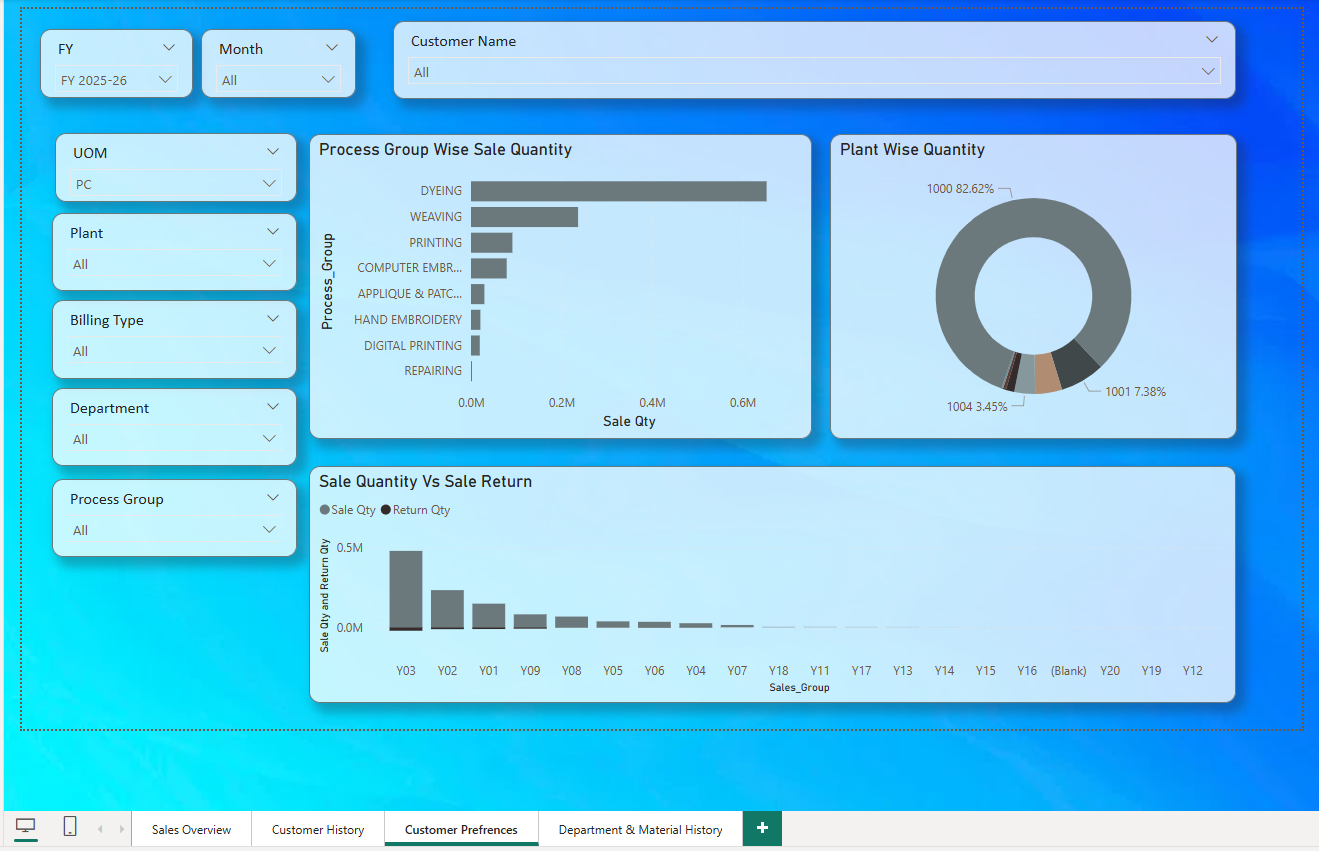

Layout of this report page (visuals, bound fields, positions):
{"tool":"powerbi","page":{"name":"Customer Prefrences","canvas":[1280,720],"ordinal":2},"visuals":[{"type":"slicer","fields":{"Values":["DateTable.FY"]},"box":[18.5,20.4,152.7,69.1],"z":0},{"type":"slicer","title":"Month","fields":{"Values":["DateTable.Month Name"]},"box":[179,20.4,154.7,69.1],"z":1000},{"type":"slicer","fields":{"Values":["Unit Of Measurment.UOM"]},"box":[32.8,123.7,242,69],"z":2000},{"type":"slicer","fields":{"Values":["yngs_sales plant_master.Plant_Code"]},"box":[29.6,203.7,245.3,78.8],"z":3000},{"type":"slicer","fields":{"Values":["Document Type.Document Type"]},"box":[29.6,291.3,245.3,78.8],"z":4000},{"type":"slicer","fields":{"Values":["yngs_sales sales_group_master.Sales_Group"]},"box":[29.7,379,244.8,78.3],"z":5000},{"type":"slicer","fields":{"Values":["yngs_sales process_group_master.Process_Group_Name"]},"box":[29.7,469.9,244.8,78.3],"z":6000},{"type":"slicer","fields":{"Values":["yngs_sales bill_to_party_master.Bill_To_Party_Name"]},"box":[371,12,843,78],"z":7000},{"type":"clusteredBarChart","title":"Process Group Wise Sale Quantity","fields":{"Category":["sales_invoice_data.Process_Group"],"Y":["sales_invoice_data.Sale Qty"]},"box":[286.8,124.5,503.2,305.2],"z":8000},{"type":"lineStackedColumnComboChart","title":"Sale Quantity Vs Sale Return","fields":{"Category":["yngs_sales sales_group_master.Sales_Group"],"Y":["sales_invoice_data.Sale Qty","sales_invoice_data.Return Qty"]},"box":[287,457,927,237],"z":9000},{"type":"donutChart","title":"Plant Wise Quantity","fields":{"Y":["sales_invoice_data.Sale Qty"],"Category":["yngs_sales plant_master.Plant_Code"]},"box":[808.4,124.5,406.3,305.2],"z":10000}]}

Visuals, with their boxes in screenshot pixels (x1, y1, x2, y2):
slicer - DateTable.FY: x1=19, y1=24, x2=174, y2=94
"Month" slicer: x1=182, y1=24, x2=339, y2=94
slicer - Unit Of Measurment.UOM: x1=33, y1=129, x2=279, y2=199
slicer - yngs_sales plant_master.Plant_Code: x1=30, y1=210, x2=279, y2=291
slicer - Document Type.Document Type: x1=30, y1=299, x2=279, y2=380
slicer - yngs_sales sales_group_master.Sales_Group: x1=30, y1=389, x2=279, y2=468
slicer - yngs_sales process_group_master.Process_Group_Name: x1=30, y1=481, x2=279, y2=561
slicer - yngs_sales bill_to_party_master.Bill_To_Party_Name: x1=377, y1=16, x2=1234, y2=95
"Process Group Wise Sale Quantity" clusteredBarChart: x1=291, y1=130, x2=803, y2=440
"Sale Quantity Vs Sale Return" lineStackedColumnComboChart: x1=292, y1=468, x2=1234, y2=709
"Plant Wise Quantity" donutChart: x1=822, y1=130, x2=1234, y2=440
